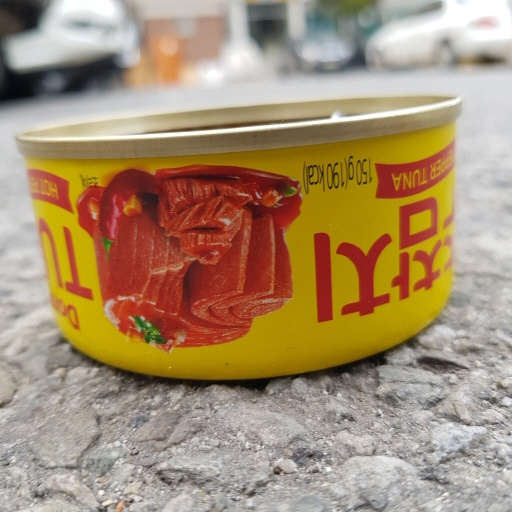Metal_1: (14, 89, 465, 381)
